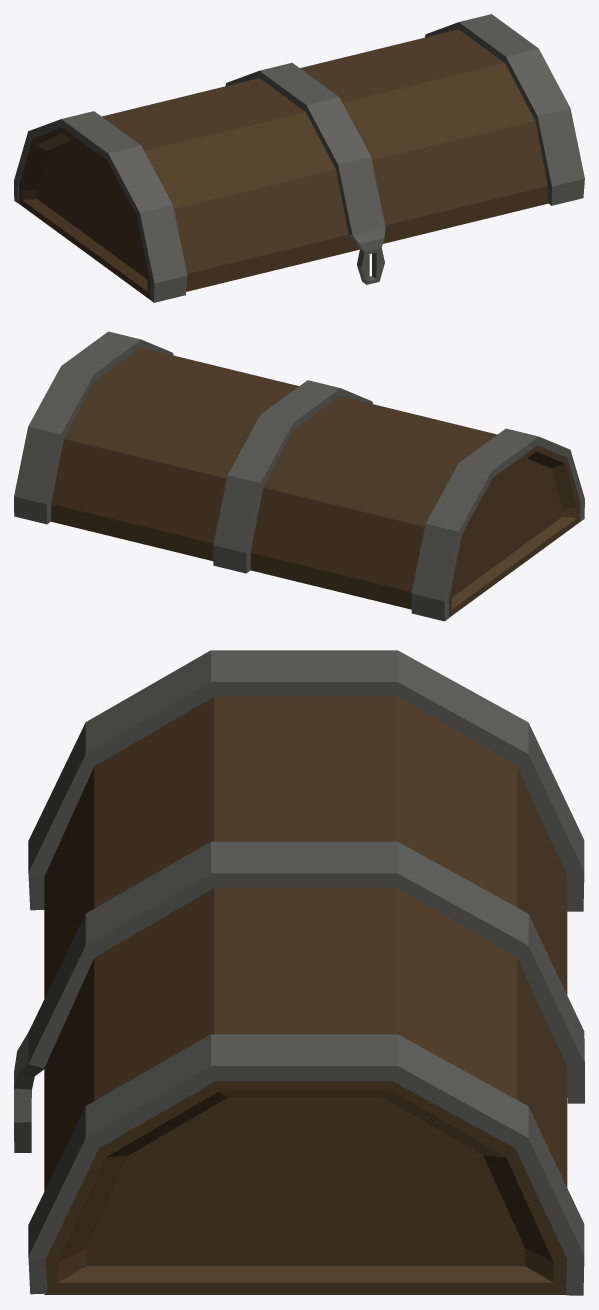
The model's file is Chest_Lid.glb.
3 renders of one model, top to bottom at view 1: azimuth 30°, elevation 25°; view 2: azimuth 150°, elevation 25°; view 3: azimuth 270°, elevation 25°, orthographic. The views are drawn at different scales.
Visible parts, largest first — view 1: Chest_Lid.001; view 2: Chest_Lid.001; view 3: Chest_Lid.001.
Boxes of the visible parts, x1=… form: Chest_Lid.001: x1=14, y1=14, x2=584, y2=302; Chest_Lid.001: x1=14, y1=331, x2=584, y2=621; Chest_Lid.001: x1=14, y1=650, x2=584, y2=1295.
Bounding box in the file's own units: 0.9576 × 0.31 × 0.5557.
2 materials, 2 textured.
